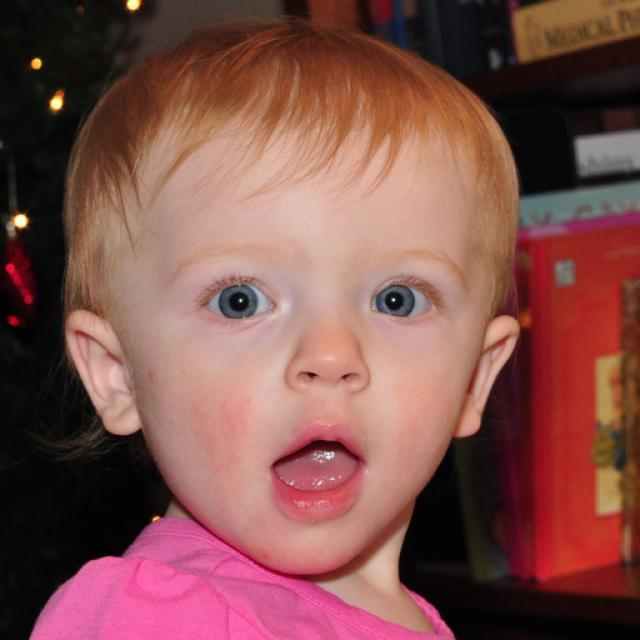surprise: (130, 106, 482, 575)
